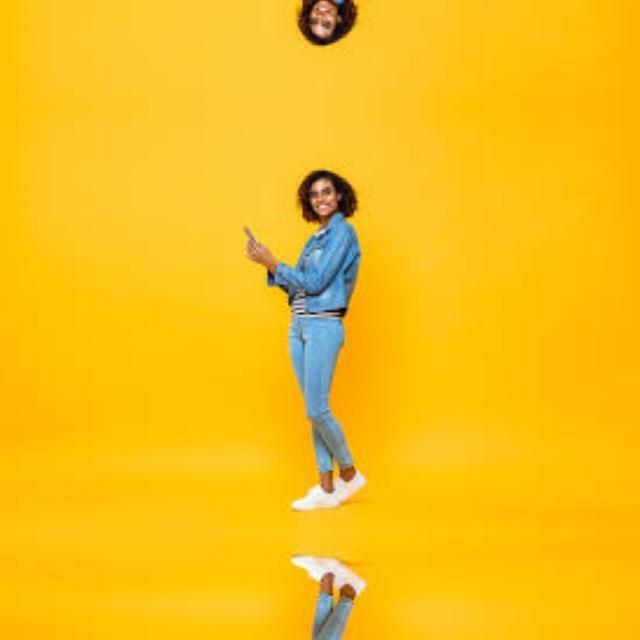person: (253, 162, 391, 510), (253, 556, 391, 640), (253, 0, 391, 52)
